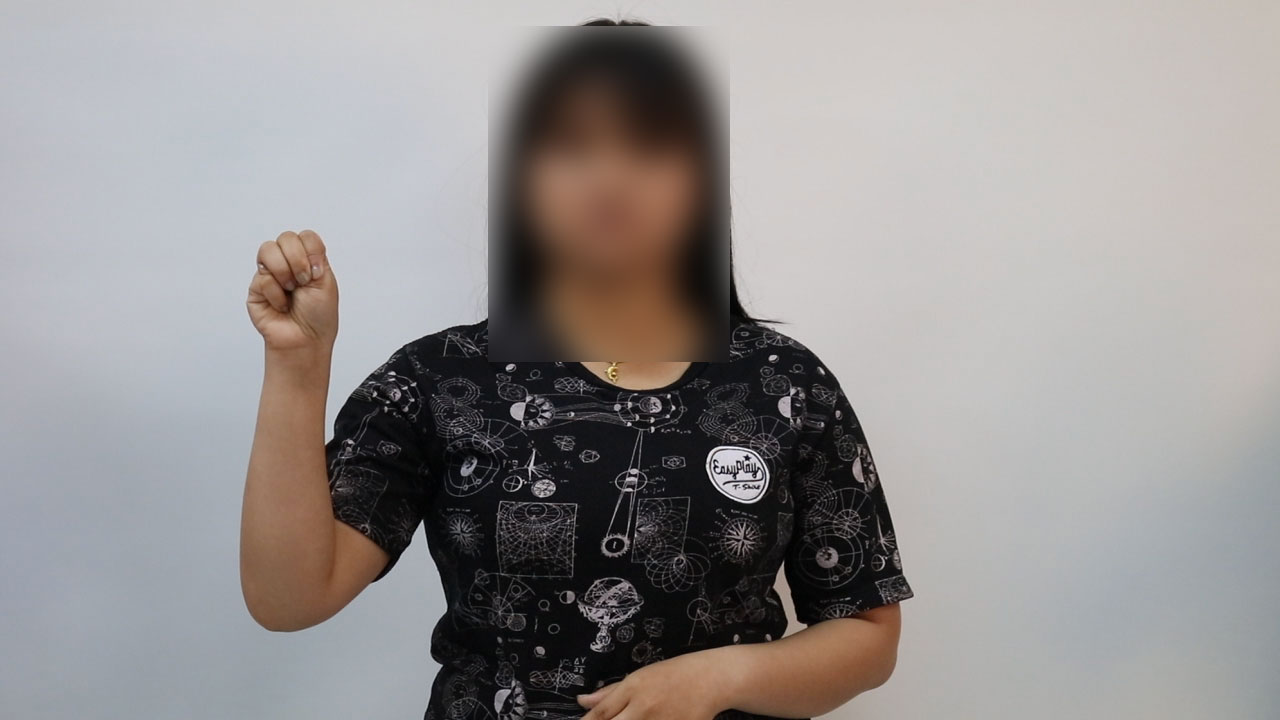mor: (230, 225, 350, 357), (235, 232, 325, 266)
